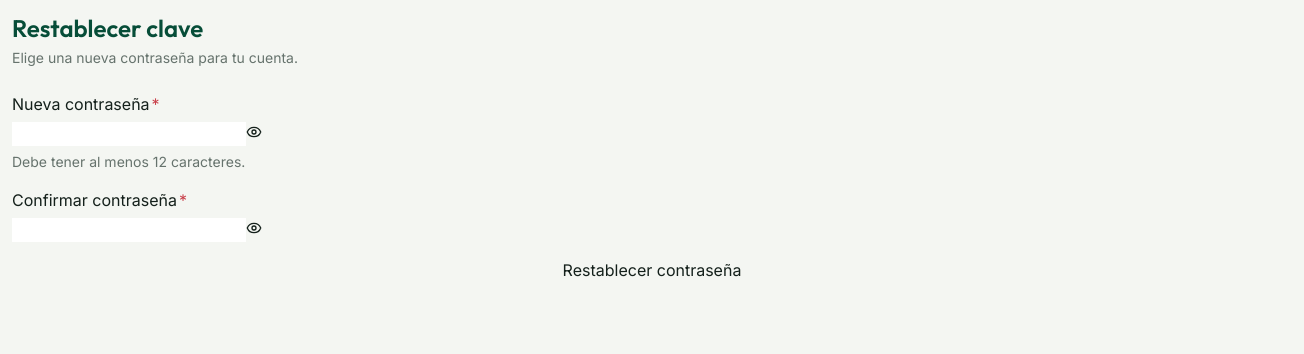
Test: ResetPasswordPage › shows a distinct safe message for an already-used token
The image size is (1304, 354).
Expected: the heading "Restablecer clave" is shown, [12,13,203,43]
Type "Strong-Password-99!" into the password field labelled "Nueva contraseña" at (129, 134), box [12,122,246,146]
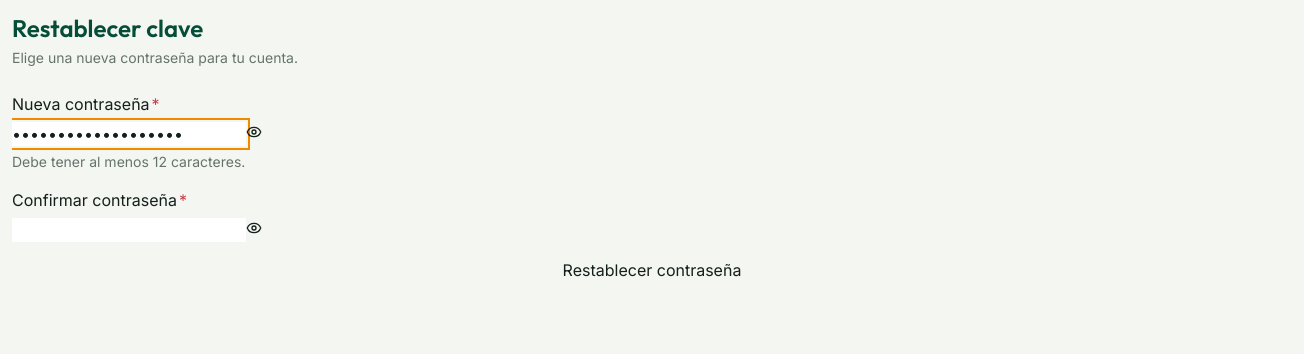
Type "Strong-Password-99!" into the password field labelled "Confirmar contraseña" at (129, 230), box [12,218,246,242]
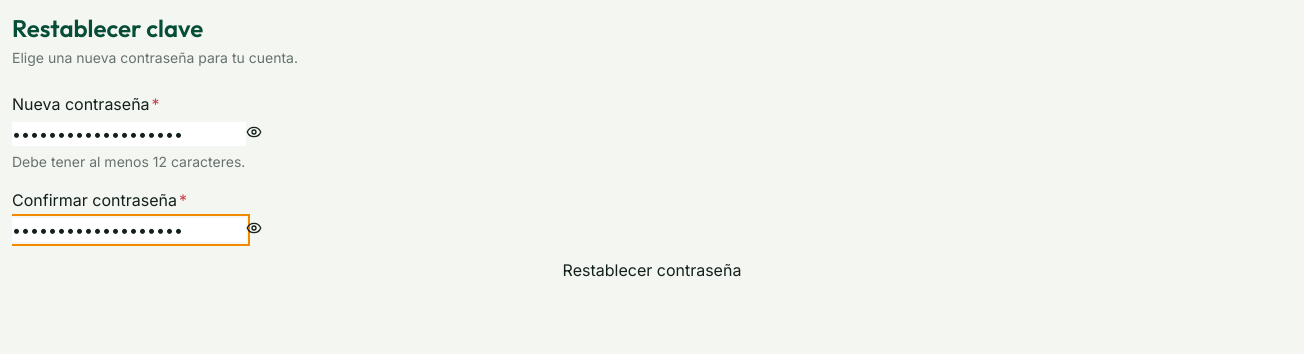
Click the button "Restablecer contraseña" at (652, 270), box [12,258,1292,282]
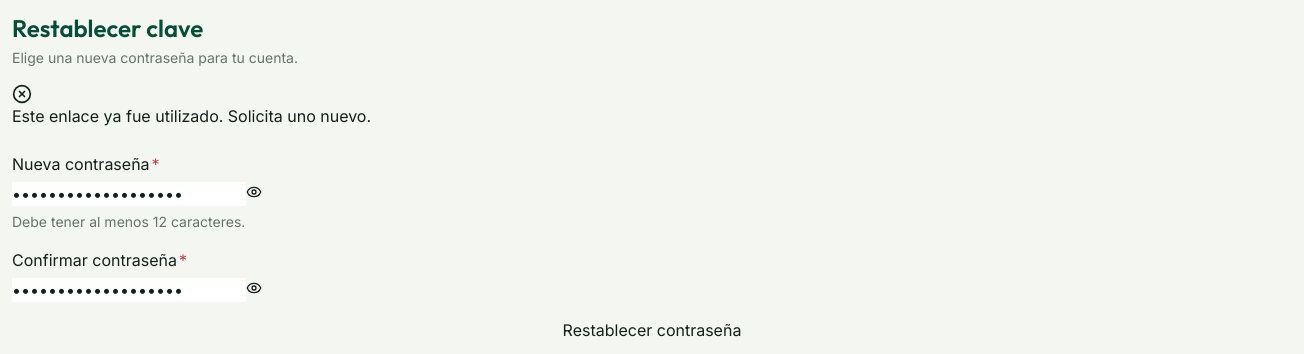
Expected: the message shows "ya fue utilizado", [12,106,371,126]
